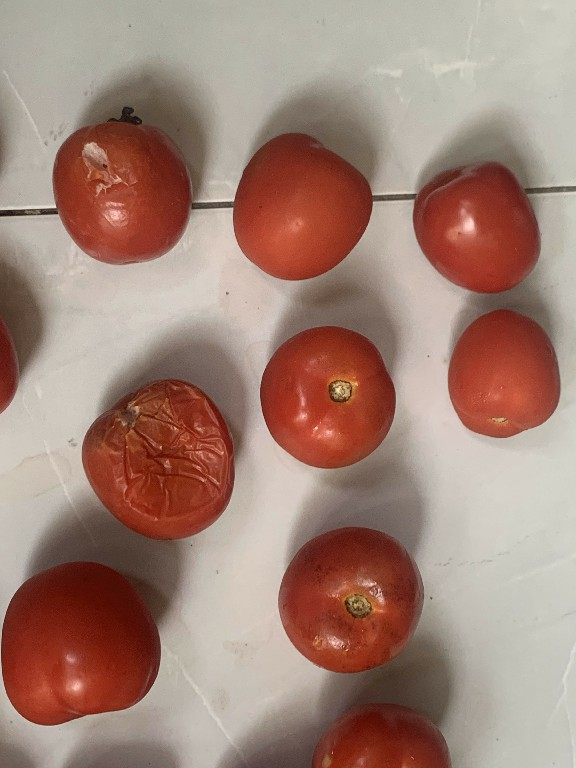NG: (80, 374, 245, 548), (40, 111, 206, 265)
OK: (0, 555, 164, 733), (224, 124, 378, 284), (275, 518, 427, 680), (260, 319, 401, 474), (408, 155, 542, 301), (441, 303, 565, 437)
